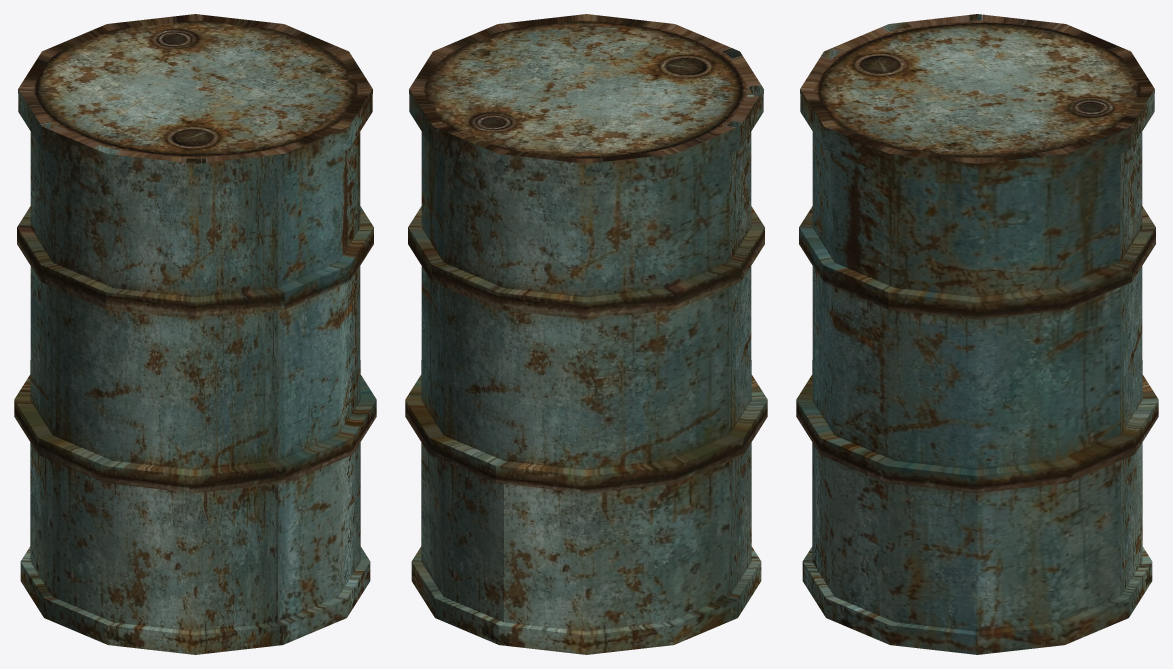
Rendered from barrel.fbx.
The picture shows the model from 3 angles, left to right: view 1: azimuth 30°, elevation 25°; view 2: azimuth 150°, elevation 25°; view 3: azimuth 270°, elevation 25°; orthographic projection.
Visible parts, largest first — view 1: Cylinder.018; view 2: Cylinder.018; view 3: Cylinder.018.
Boxes of the visible parts, x1,y1,x2,y2 form: Cylinder.018: (14, 14, 376, 654); Cylinder.018: (405, 14, 767, 654); Cylinder.018: (796, 14, 1158, 654).
Bounding box in the file's own units: 86.7 × 86.7 × 130.
